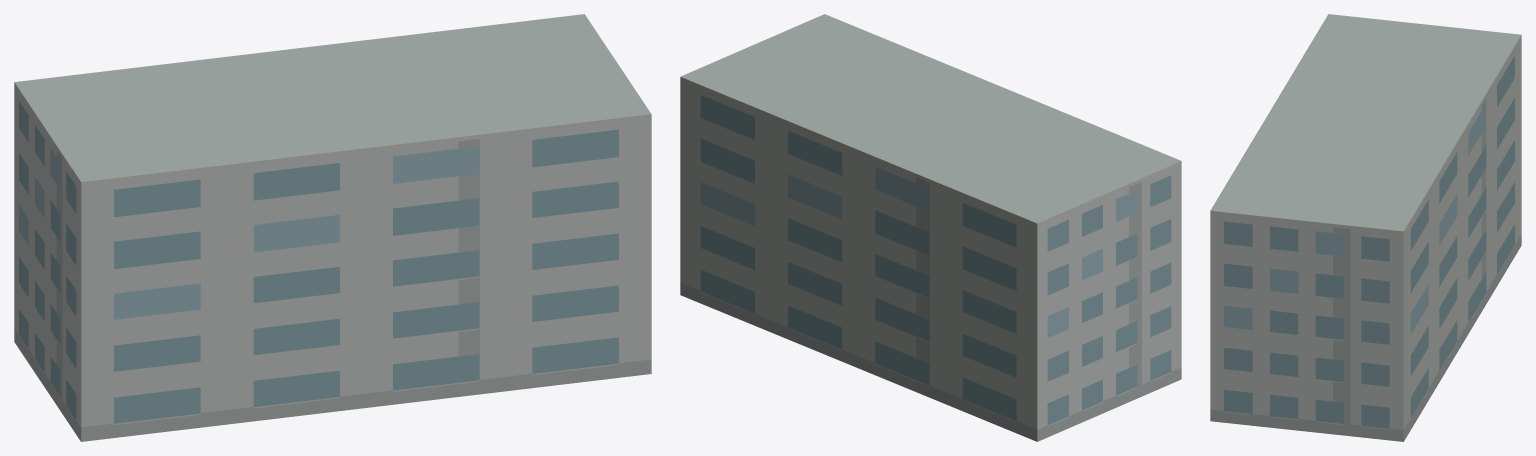
The model's file is residential-2cc9893c-7afb-4346-af22-71743f2a33b1.glb.
3 renders of one model, left to right at view 1: azimuth 30°, elevation 25°; view 2: azimuth 150°, elevation 25°; view 3: azimuth 270°, elevation 25°, orthographic. The views are drawn at different scales.
Visible parts, largest first — view 1: residential-2cc9893c-7afb-4346-af22-71743f2a33b1.tmp; view 2: residential-2cc9893c-7afb-4346-af22-71743f2a33b1.tmp; view 3: residential-2cc9893c-7afb-4346-af22-71743f2a33b1.tmp.
Part boxes in pixels (bbox=[...]): residential-2cc9893c-7afb-4346-af22-71743f2a33b1.tmp: bbox=[14, 14, 651, 441]; residential-2cc9893c-7afb-4346-af22-71743f2a33b1.tmp: bbox=[680, 14, 1181, 441]; residential-2cc9893c-7afb-4346-af22-71743f2a33b1.tmp: bbox=[1210, 14, 1521, 441].
Size of the model in its own units: 33.8 by 15.25 by 20.46.
